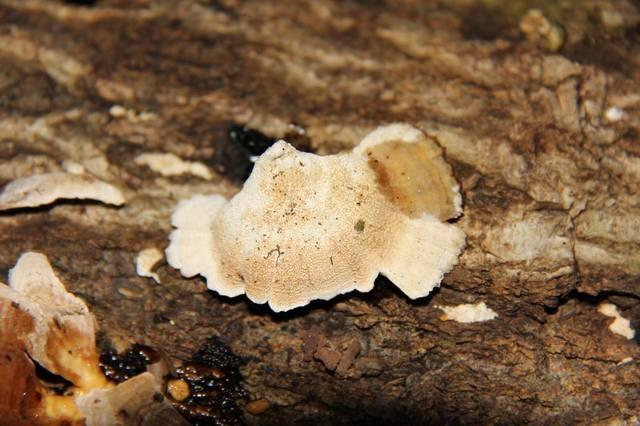poisonous_mushroom: (163, 120, 468, 313), (0, 249, 191, 425)
